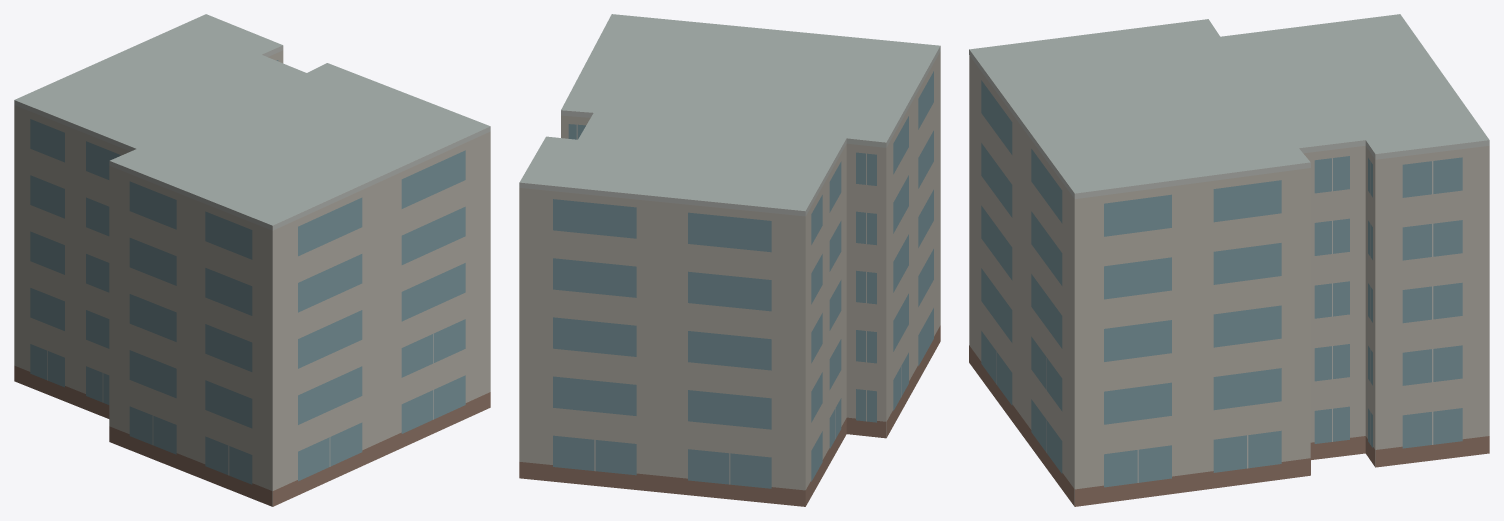
The model's file is survey-upis-32985615.glb.
3 views of the same model, side by side, from view 1: azimuth 30°, elevation 25°; view 2: azimuth 150°, elevation 25°; view 3: azimuth 270°, elevation 25° (orthographic). The views are drawn at different scales.
Parts seen in each view (by area): view 1: survey-upis-32985615.tmp; view 2: survey-upis-32985615.tmp; view 3: survey-upis-32985615.tmp.
Boxes of the visible parts, box(x1,y1,x2,y2) form: survey-upis-32985615.tmp: box(14, 14, 490, 506); survey-upis-32985615.tmp: box(519, 14, 940, 506); survey-upis-32985615.tmp: box(969, 14, 1489, 506).
Size of the model in its own units: 16.79 by 13.65 by 20.56.
